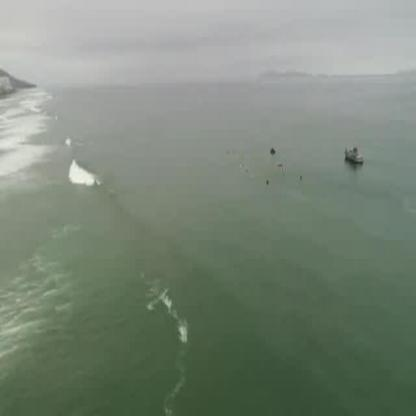Boat: (343, 140, 367, 171)
